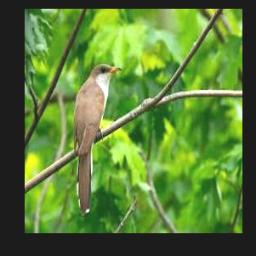Cuckoo: (73, 64, 122, 214)
